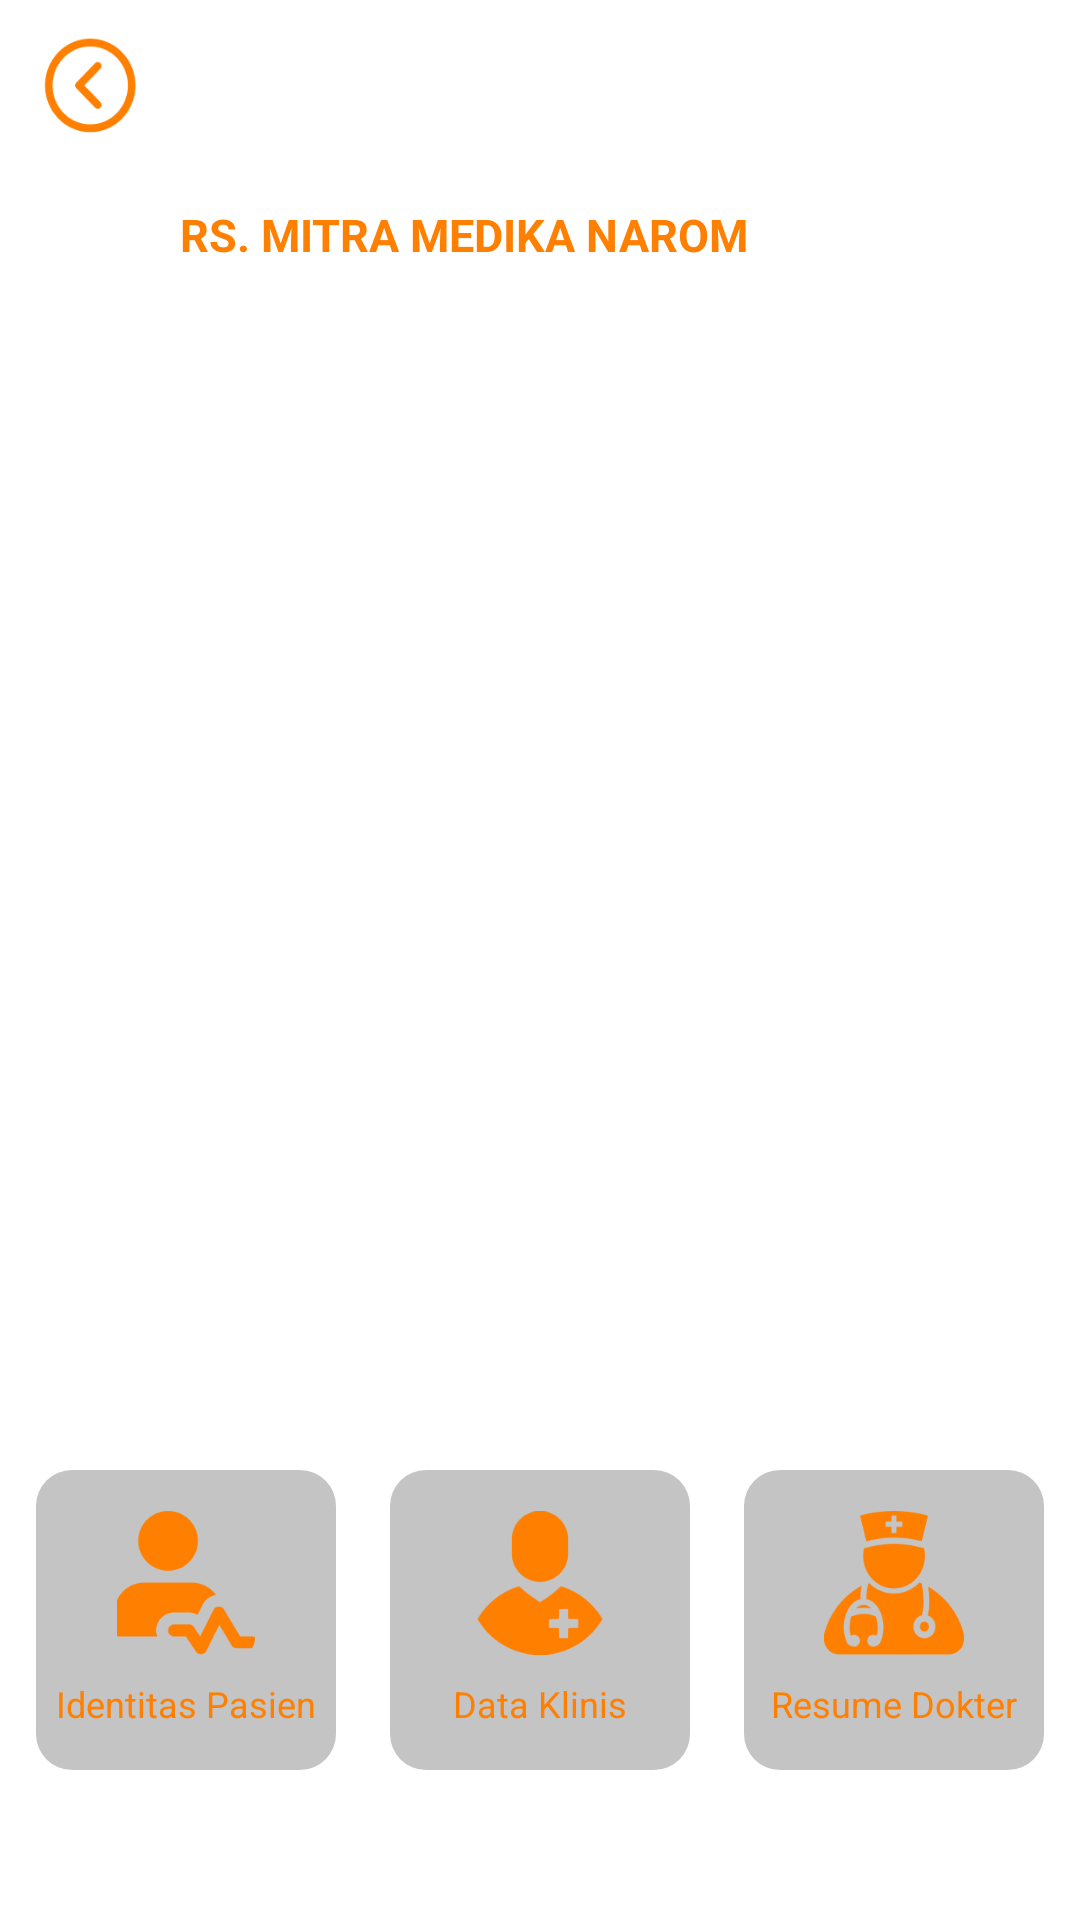

Locate icon controls on the screen. Image size 1080 x 1920, boxes as (x1, y1, x2, y2).
back: (44, 38, 136, 133)
